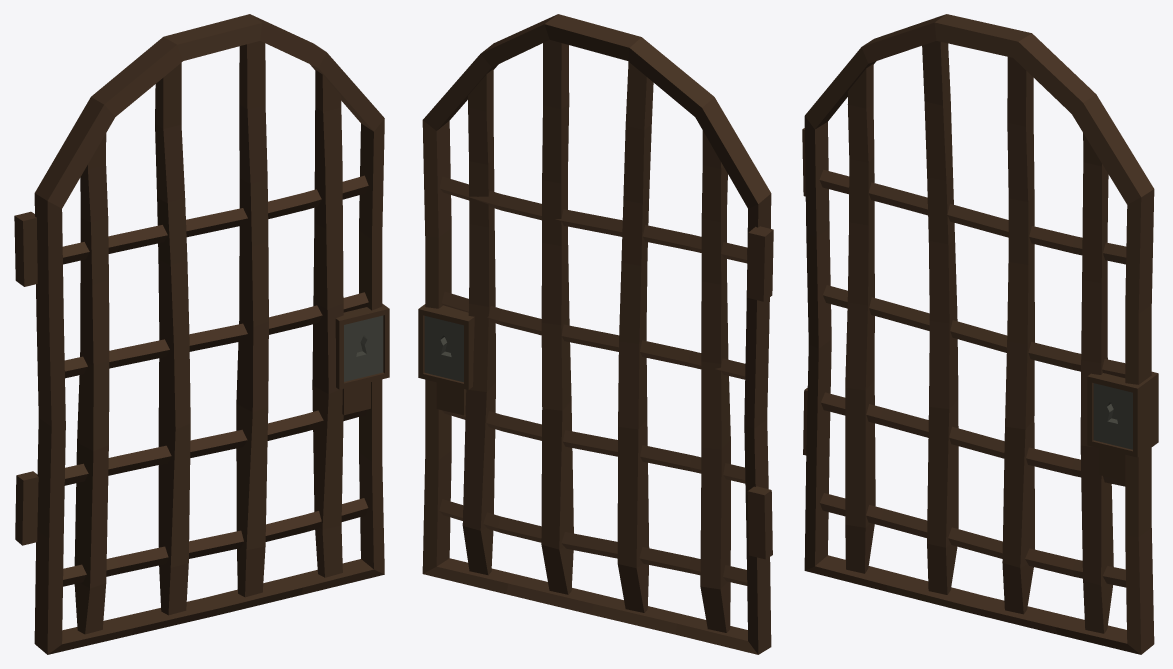
File: iron_door_L.gltf
3 renders of one model, left to right at view 1: azimuth 30°, elevation 25°; view 2: azimuth 150°, elevation 25°; view 3: azimuth 330°, elevation 25°, orthographic.
Visible parts, largest first — view 1: Door_Iron_Left.001; view 2: Door_Iron_Left.001; view 3: Door_Iron_Left.001.
Part boxes in pixels (box(x1,y1,x2,y2)): Door_Iron_Left.001: box(14, 14, 389, 654); Door_Iron_Left.001: box(418, 14, 773, 654); Door_Iron_Left.001: box(802, 14, 1158, 654).
Size of the model in its own units: 1.34 by 2.12 by 0.1629.
1 material, 1 textured.
